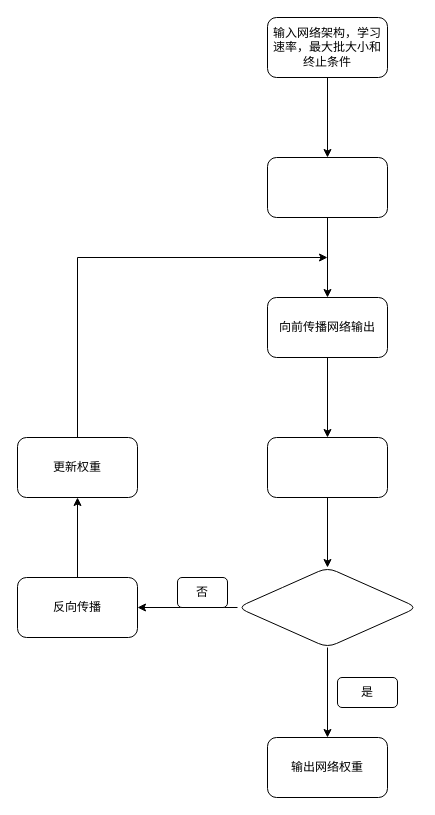
This 435x815 diagram has some shape labels left out. Here are the shapes that lost their labels. From the top down, the box of each, then its label:
(266, 156, 388, 218): 初始化权重网络
(266, 436, 388, 498): 利用损失函数计算整体误差
(236, 566, 418, 648): 误差小于终止条件
